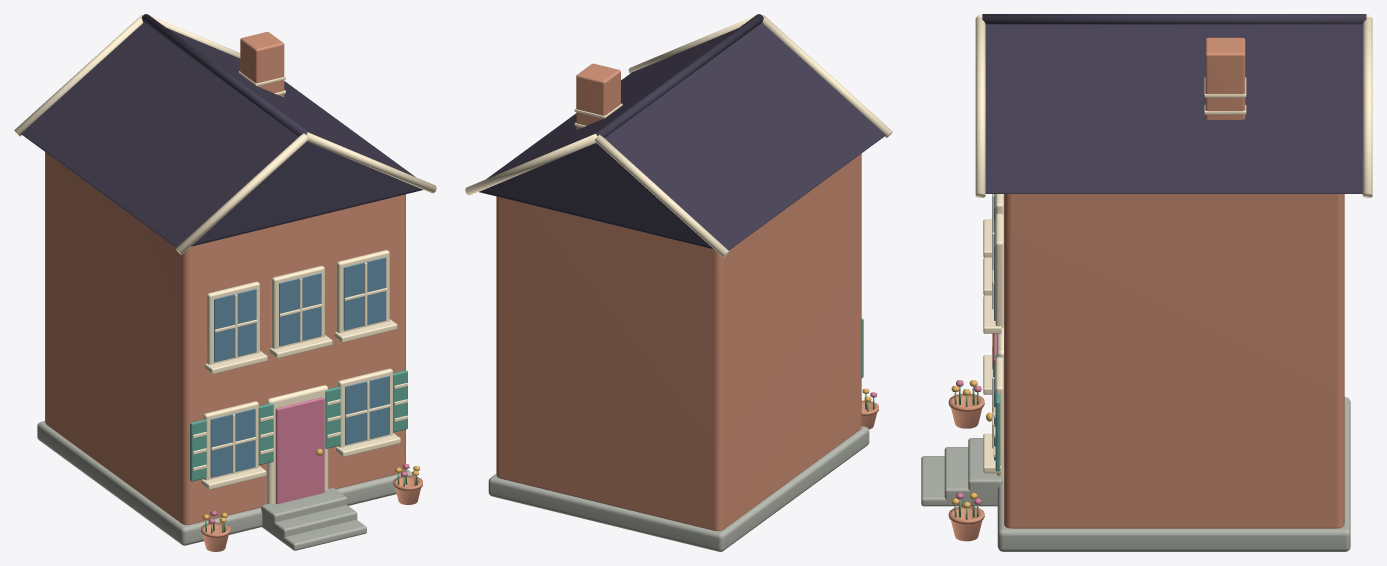
File: Brick_townhouse.fbx
3 renders of one model, left to right at view 1: azimuth 30°, elevation 25°; view 2: azimuth 150°, elevation 25°; view 3: azimuth 270°, elevation 25°, orthographic. The views are drawn at different scales.
Parts seen in each view (by area): view 1: Town_Brick_townhouse Plaster walls.001, Town_Brick_townhouse Gabled roof.001, Town_Brick_townhouse Foundation.001, Town_Brick_townhouse Front door.001, Town_Brick_townhouse Window glass.009, Town_Brick_townhouse Window glass.007, Town_Brick_townhouse Window glass.008, Town_Brick_townhouse Window glass.005, Town_Brick_townhouse Window glass.006, Town_Brick_townhouse Chimney.001, Town_Brick_townhouse Ridge cap.001, Town_Brick_townhouse Entry steps.003 (+23 smaller); view 2: Town_Brick_townhouse Plaster walls.001, Town_Brick_townhouse Gabled roof.001, Town_Brick_townhouse Foundation.001, Town_Brick_townhouse Chimney.001, Town_Brick_townhouse Ridge cap.001, Town_Brick_townhouse Roof fascia.006, Town_Brick_townhouse Roof fascia.007, Town_Brick_townhouse Roof fascia.004, Town_Brick_townhouse Roof fascia.005; view 3: Town_Brick_townhouse Plaster walls.001, Town_Brick_townhouse Gabled roof.001, Town_Brick_townhouse Foundation.001, Town_Brick_townhouse Ridge cap.001, Town_Brick_townhouse Chimney.001, Town_Brick_townhouse Roof fascia.005, Town_Brick_townhouse Roof fascia.007, Town_Brick_townhouse Entry steps.003, Town_Brick_townhouse Entry steps.004, Town_Brick_townhouse Entry steps.005, Town_Brick_townhouse Window surround.009, Town_Brick_townhouse Terracotta pot.003 (+2 smaller).
Boxes of the visible parts, x1=… form: Town_Brick_townhouse Plaster walls.001: x1=45, y1=152, x2=405, y2=524; Town_Brick_townhouse Gabled roof.001: x1=21, y1=23, x2=422, y2=247; Town_Brick_townhouse Foundation.001: x1=37, y1=421, x2=413, y2=545; Town_Brick_townhouse Front door.001: x1=275, y1=397, x2=324, y2=504; Town_Brick_townhouse Window glass.009: x1=343, y1=257, x2=386, y2=330; Town_Brick_townhouse Window glass.007: x1=214, y1=289, x2=256, y2=362; Town_Brick_townhouse Window glass.008: x1=279, y1=273, x2=321, y2=346; Town_Brick_townhouse Window glass.005: x1=210, y1=408, x2=255, y2=477; Town_Brick_townhouse Window glass.006: x1=345, y1=376, x2=389, y2=444; Town_Brick_townhouse Chimney.001: x1=240, y1=32, x2=284, y2=97; Town_Brick_townhouse Ridge cap.001: x1=141, y1=14, x2=308, y2=136; Town_Brick_townhouse Entry steps.003: x1=261, y1=488, x2=347, y2=535; Town_Brick_townhouse Plaster walls.001: x1=496, y1=153, x2=861, y2=531; Town_Brick_townhouse Gabled roof.001: x1=479, y1=23, x2=885, y2=250; Town_Brick_townhouse Foundation.001: x1=488, y1=426, x2=869, y2=551; Town_Brick_townhouse Chimney.001: x1=576, y1=63, x2=620, y2=129; Town_Brick_townhouse Ridge cap.001: x1=595, y1=14, x2=763, y2=137; Town_Brick_townhouse Roof fascia.006: x1=595, y1=134, x2=729, y2=257; Town_Brick_townhouse Roof fascia.007: x1=465, y1=133, x2=597, y2=195; Town_Brick_townhouse Roof fascia.004: x1=762, y1=15, x2=892, y2=137; Town_Brick_townhouse Roof fascia.005: x1=628, y1=14, x2=760, y2=73; Town_Brick_townhouse Plaster walls.001: x1=1004, y1=194, x2=1344, y2=528; Town_Brick_townhouse Gabled roof.001: x1=985, y1=24, x2=1362, y2=193; Town_Brick_townhouse Foundation.001: x1=997, y1=397, x2=1350, y2=551; Town_Brick_townhouse Ridge cap.001: x1=982, y1=14, x2=1366, y2=24; Town_Brick_townhouse Chimney.001: x1=1205, y1=37, x2=1245, y2=119; Town_Brick_townhouse Roof fascia.005: x1=975, y1=17, x2=985, y2=198; Town_Brick_townhouse Roof fascia.007: x1=1362, y1=17, x2=1372, y2=198; Town_Brick_townhouse Entry steps.003: x1=968, y1=438, x2=1002, y2=506; Town_Brick_townhouse Entry steps.004: x1=944, y1=447, x2=975, y2=506; Town_Brick_townhouse Entry steps.005: x1=921, y1=456, x2=947, y2=506; Town_Brick_townhouse Window surround.009: x1=995, y1=213, x2=1003, y2=327; Town_Brick_townhouse Terracotta pot.003: x1=948, y1=506, x2=984, y2=541.
Bounding box in the file's own units: 579 × 845 × 729.
